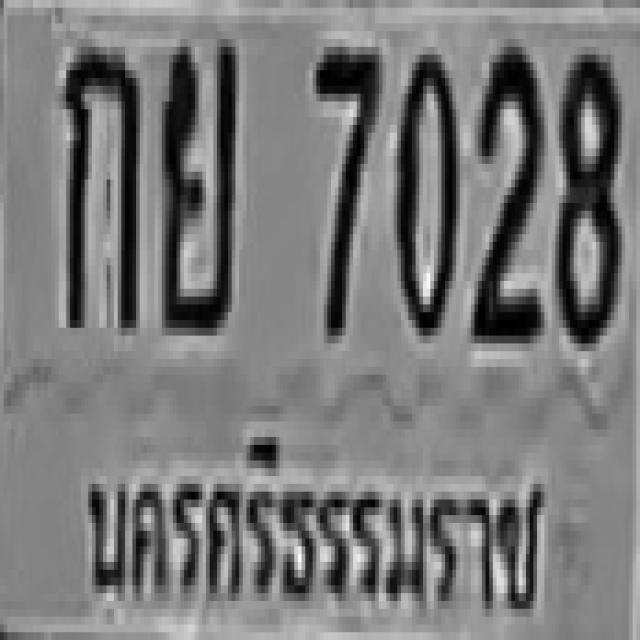0: (394, 47, 456, 328)
10GorGai: (63, 39, 136, 328)
2: (469, 39, 539, 336)
43YorYak: (158, 31, 236, 328)
7: (313, 39, 375, 328)
8: (552, 47, 618, 336)
NakhonSiThammarat: (77, 418, 552, 624)
